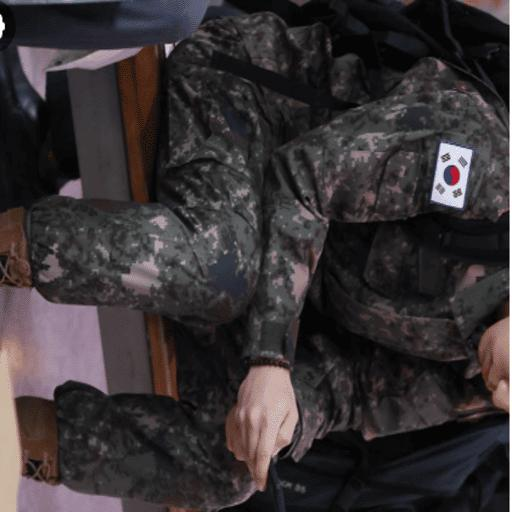korea army: (2, 3, 506, 509)
